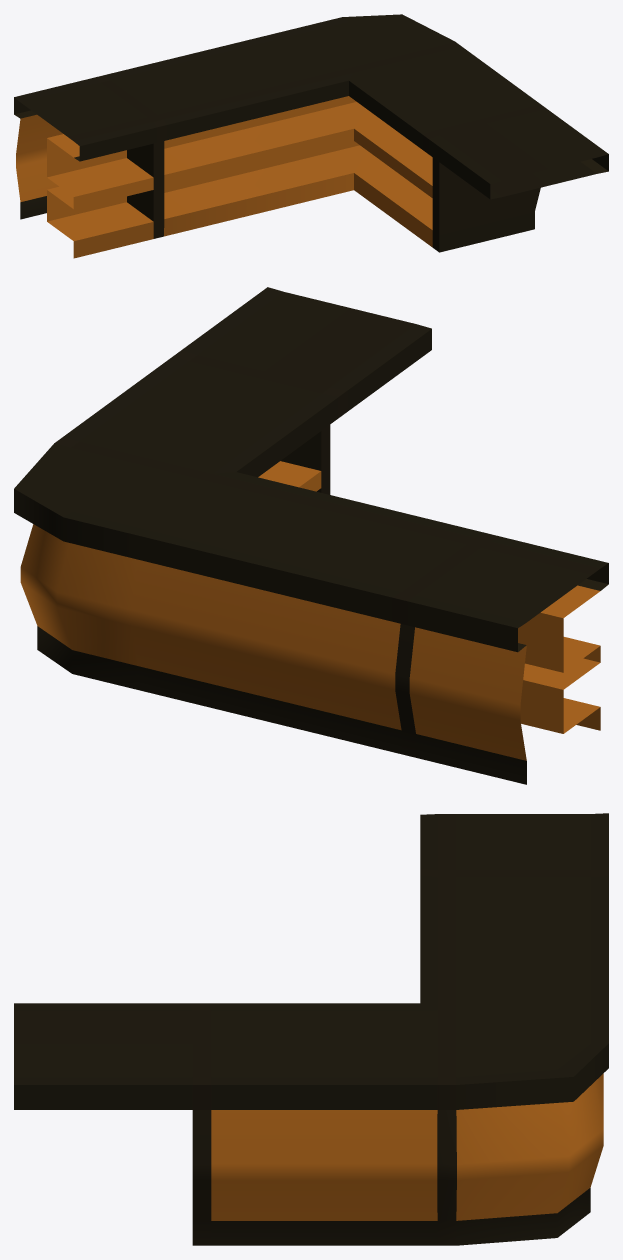
File: Bar.fbx
3 renders of one model, top to bottom at view 1: azimuth 30°, elevation 25°; view 2: azimuth 150°, elevation 25°; view 3: azimuth 270°, elevation 25°, orthographic. The views are drawn at different scales.
Visible parts, largest first — view 1: Bar; view 2: Bar; view 3: Bar.
Part boxes in pixels (box(x1,y1,x2,y2)): Bar: box(14, 14, 608, 258); Bar: box(14, 287, 608, 784); Bar: box(14, 813, 608, 1245).
Bounding box in the file's own units: 6.62 × 1.92 × 6.12.
